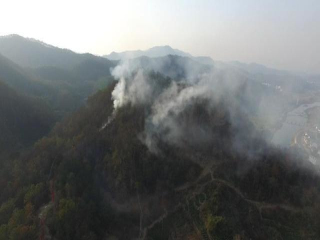smoke: (95, 45, 316, 165)
